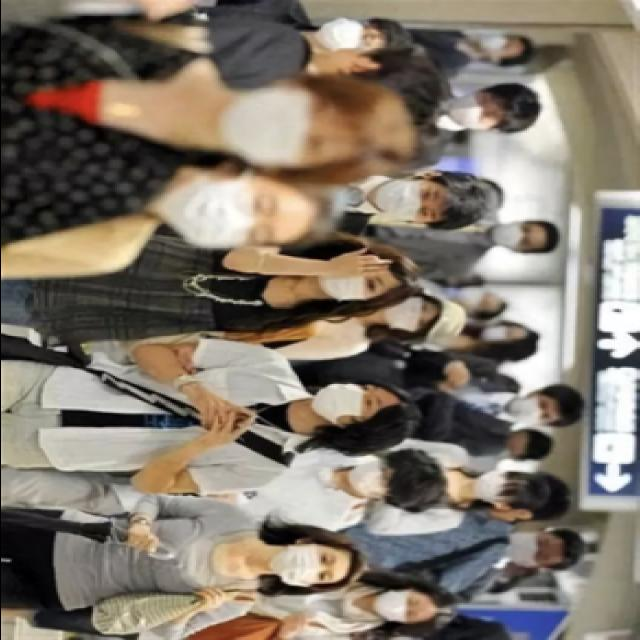mask: (222, 84, 346, 170), (160, 174, 280, 252), (373, 176, 445, 227), (312, 382, 388, 428), (268, 542, 342, 588), (318, 258, 388, 304), (317, 20, 383, 58), (449, 90, 504, 132), (384, 296, 434, 334), (348, 461, 396, 499), (373, 590, 423, 626), (506, 531, 554, 568), (476, 468, 522, 506), (508, 395, 556, 429), (491, 222, 539, 252), (478, 35, 522, 56), (458, 290, 498, 310), (484, 325, 520, 344)
